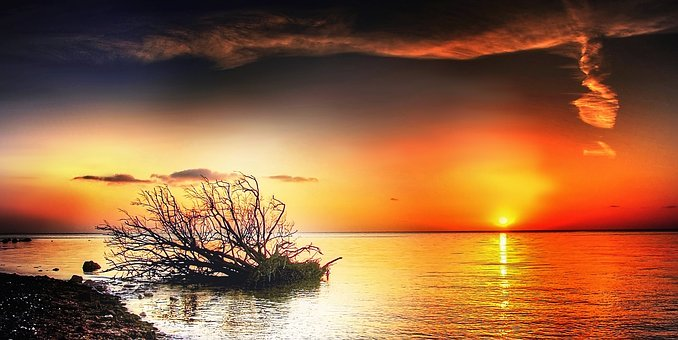sea: (29, 234, 678, 335)
sky: (3, 5, 673, 230)
tree: (108, 185, 336, 294)
